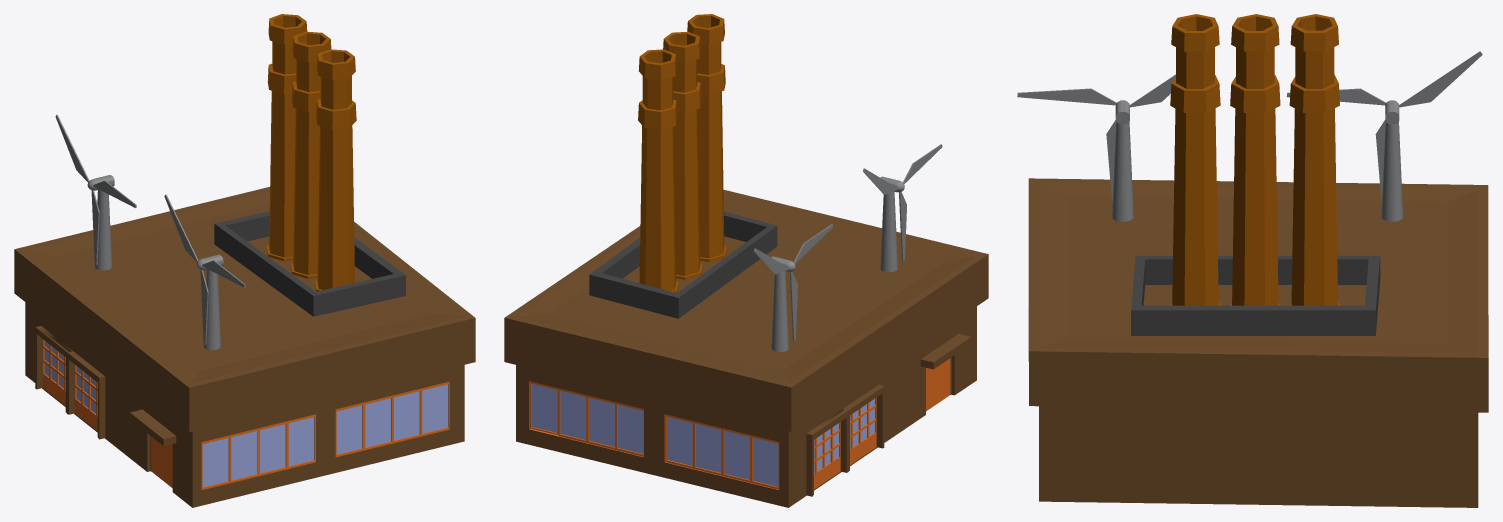
The model's file is Usine Eolienne Niv1.fbx.
3 renders of one model, left to right at view 1: azimuth 30°, elevation 25°; view 2: azimuth 150°, elevation 25°; view 3: azimuth 270°, elevation 25°, orthographic. The views are drawn at different scales.
Visible parts, largest first — view 1: usine.041; view 2: usine.041; view 3: usine.041.
Part boxes in pixels (<box>): usine.041: <box>14,14,475,507</box>; usine.041: <box>504,14,988,507</box>; usine.041: <box>1017,14,1488,507</box>.
Size of the model in its own units: 760 by 852 by 830.
